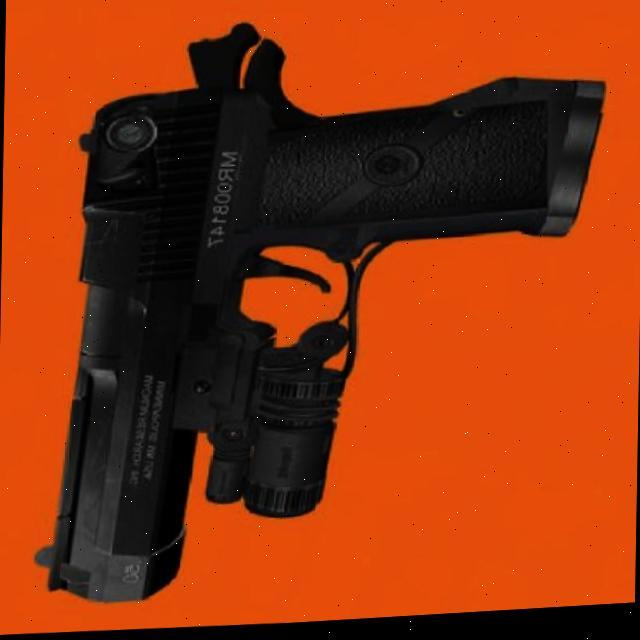gun: (34, 2, 608, 614)
